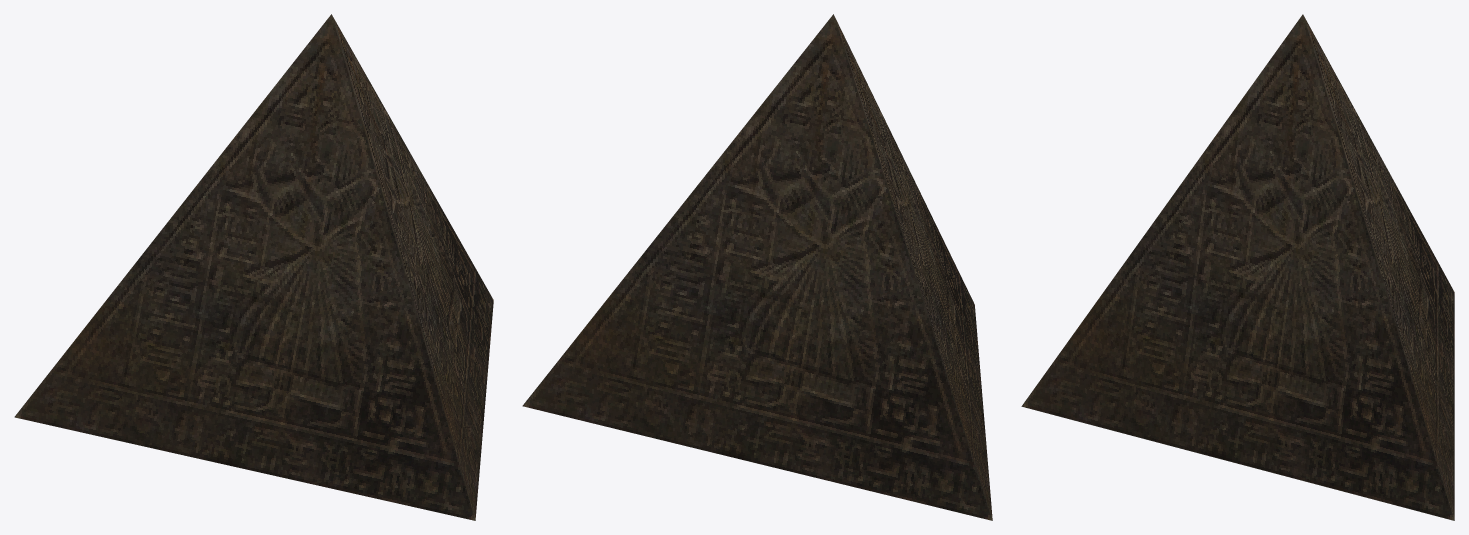
The model's file is ancient_artifact_mx_1.glb.
The picture shows the model from 3 angles, left to right: view 1: azimuth 30°, elevation 25°; view 2: azimuth 150°, elevation 25°; view 3: azimuth 270°, elevation 25°; orthographic projection. The views are drawn at different scales.
Parts seen in each view (by area): view 1: ancient_artifact_mx_1; view 2: ancient_artifact_mx_1; view 3: ancient_artifact_mx_1.
Part boxes in pixels (x1,y1,x2,y2): ancient_artifact_mx_1: (14, 14, 493, 520); ancient_artifact_mx_1: (522, 14, 992, 520); ancient_artifact_mx_1: (1021, 14, 1454, 520).
Bounding box in the file's own units: 0.5 × 0.4 × 0.4.
1 material, 1 textured.
